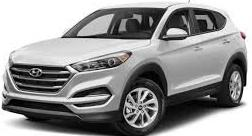SUV: (2, 3, 246, 135)
